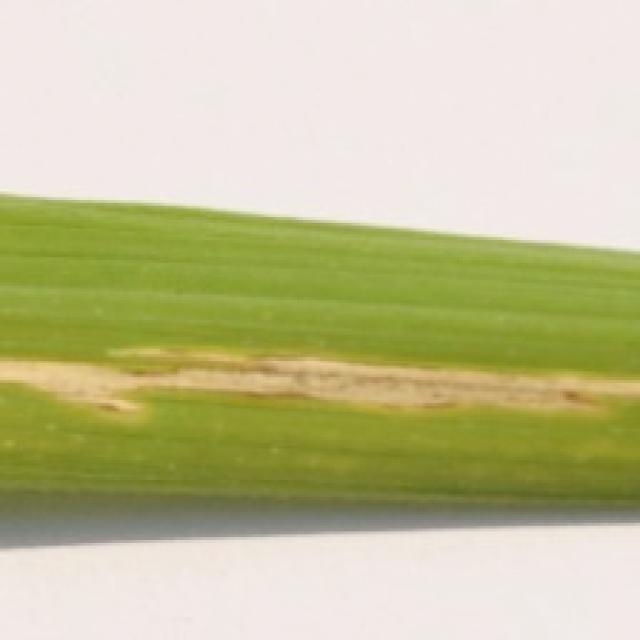Unhealthy: (0, 345, 640, 417)
